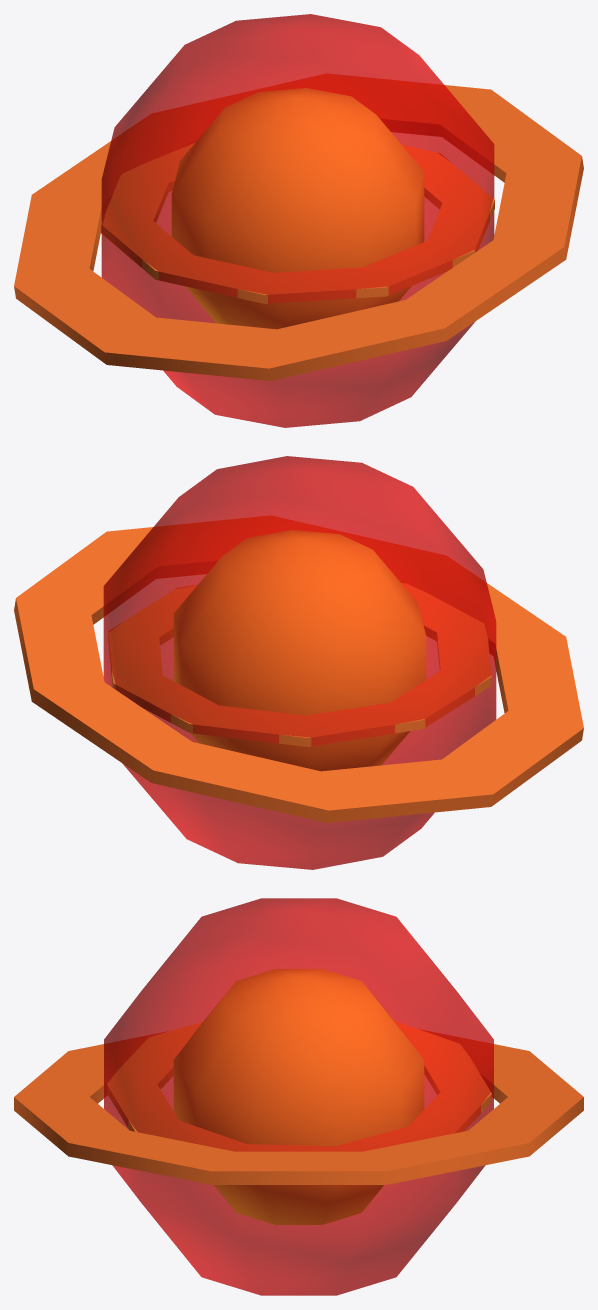
Rendered from Enemy_Attack6.obj.
3 renders of one model, top to bottom at view 1: azimuth 30°, elevation 25°; view 2: azimuth 150°, elevation 25°; view 3: azimuth 270°, elevation 25°, orthographic. The views are drawn at different scales.
Visible parts, largest first — view 1: Sphere002, Tube001, Sphere001, Tube002; view 2: Sphere002, Tube001, Sphere001, Tube002; view 3: Sphere002, Sphere001, Tube001, Tube002.
Part boxes in pixels (x1=…): Sphere002: x1=101, y1=14, x2=494, y2=427; Tube001: x1=14, y1=74, x2=583, y2=380; Sphere001: x1=171, y1=88, x2=424, y2=329; Tube002: x1=101, y1=143, x2=494, y2=303; Sphere002: x1=103, y1=456, x2=496, y2=869; Tube001: x1=14, y1=516, x2=583, y2=822; Sphere001: x1=173, y1=530, x2=426, y2=771; Tube002: x1=108, y1=583, x2=491, y2=746; Sphere002: x1=104, y1=898, x2=493, y2=1295; Sphere001: x1=173, y1=969, x2=424, y2=1224; Tube001: x1=14, y1=1030, x2=583, y2=1184; Tube002: x1=106, y1=1021, x2=491, y2=1151.
Size of the model in its own units: 29.93 by 22.83 by 31.73.
